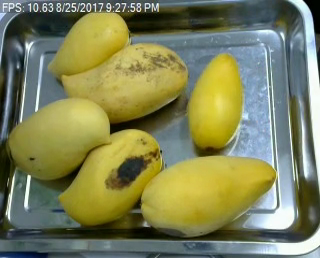Mango: (139, 153, 276, 237), (62, 40, 189, 124), (58, 128, 161, 225), (12, 97, 112, 180), (46, 8, 130, 81), (186, 53, 245, 149)
